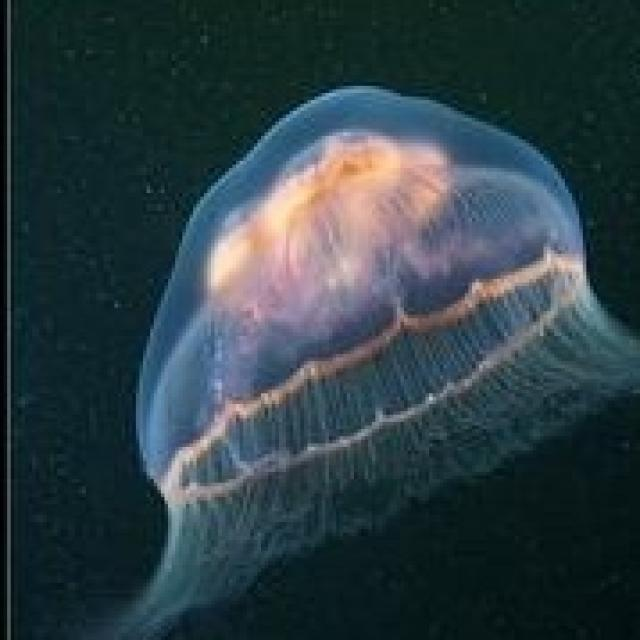Moon-jellyfish: (100, 83, 637, 636)
